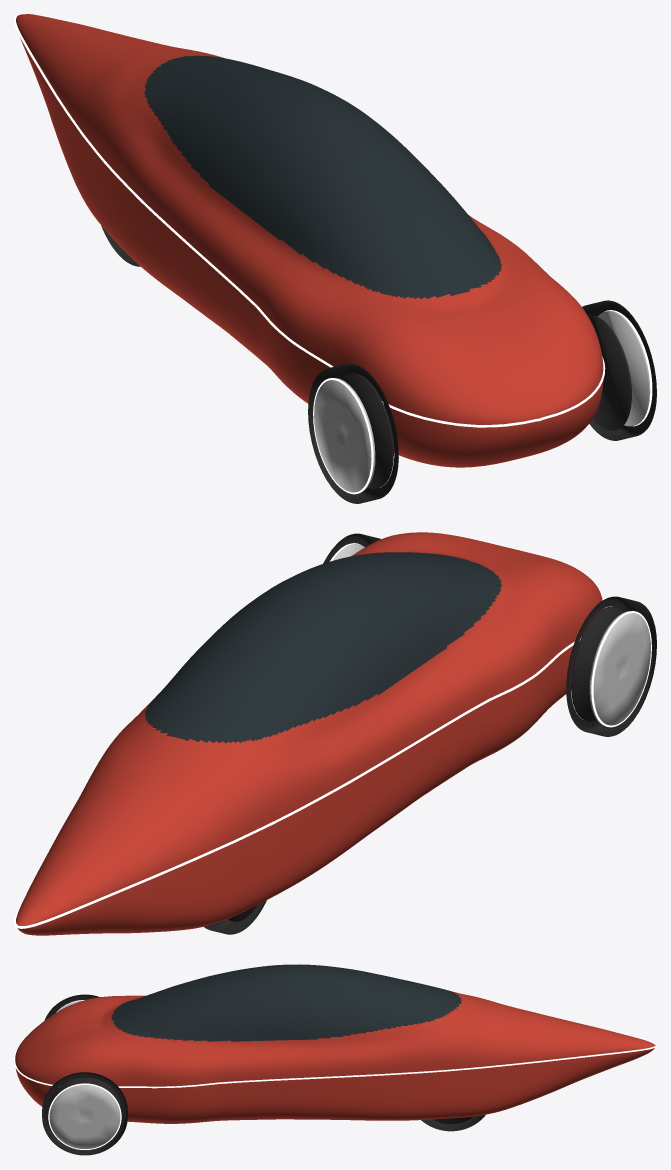
Rendered from streamliner.glb.
3 renders of one model, top to bottom at view 1: azimuth 30°, elevation 25°; view 2: azimuth 150°, elevation 25°; view 3: azimuth 270°, elevation 25°, orthographic. The views are drawn at different scales.
Parts seen in each view (by area): view 1: Body, Glass_Front, Wheel_FR, Wheel_FL, Glow_1; view 2: Body, Glass_Front, Wheel_FR, Glow_1, Wheel_RR, Wheel_FL; view 3: Body, Glass_Front, Wheel_FL, Glow_1, Wheel_RL, Wheel_FR.
Part boxes in pixels (<box>): Body: <box>16,14,603,467</box>; Glass_Front: <box>144,55,501,298</box>; Wheel_FR: <box>308,363,398,503</box>; Wheel_FL: <box>582,300,656,440</box>; Glow_1: <box>14,14,605,427</box>; Body: <box>16,532,602,935</box>; Glass_Front: <box>144,552,501,743</box>; Wheel_FR: <box>566,596,656,736</box>; Glow_1: <box>14,608,603,928</box>; Wheel_RR: <box>204,900,266,934</box>; Wheel_FL: <box>323,533,380,563</box>; Body: <box>15,990,655,1123</box>; Glass_Front: <box>111,964,461,1041</box>; Wheel_FL: <box>42,1072,127,1155</box>; Glow_1: <box>14,1043,656,1088</box>; Wheel_RL: <box>421,1114,485,1131</box>; Wheel_FR: <box>44,994,99,1020</box>.
Bounding box in the file's own units: 1.63 × 1.29 × 5.22.
